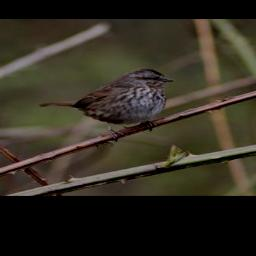Sparrow: (35, 66, 178, 143)
